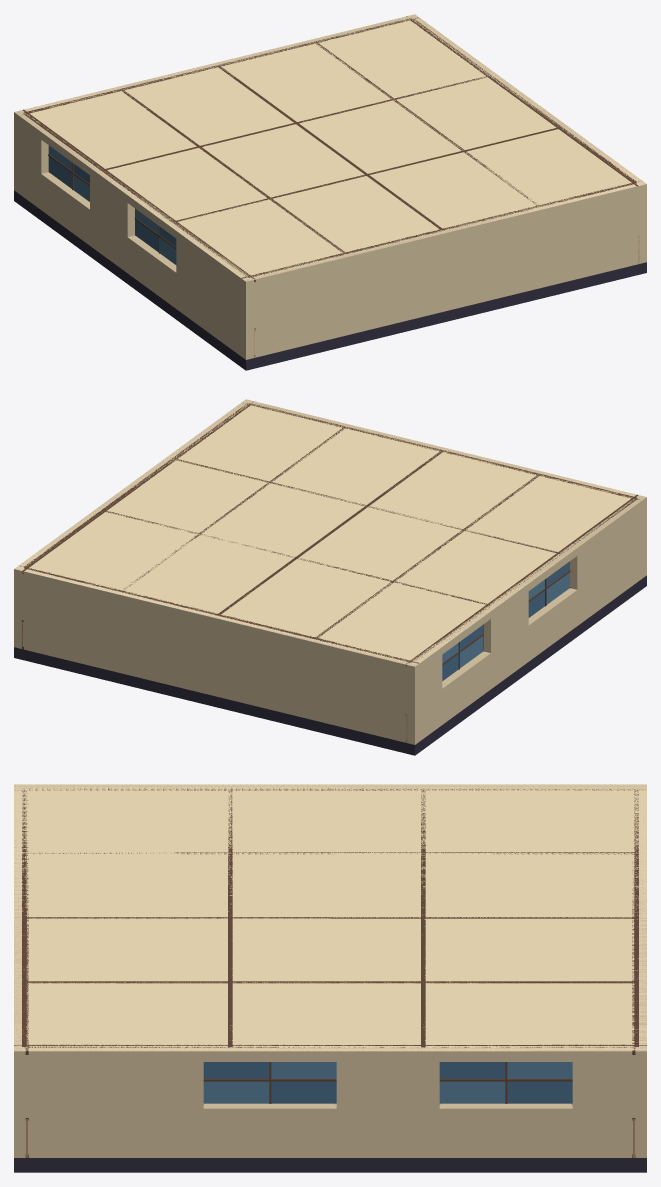
File: scene-debate-meshy.glb
3 renders of one model, top to bottom at view 1: azimuth 30°, elevation 25°; view 2: azimuth 150°, elevation 25°; view 3: azimuth 270°, elevation 25°, orthographic. The views are drawn at different scales.
Parts seen in each view (by area): view 1: SM_Ceiling_Details, SM_Wall_front, SM_Wall_left, SM_Finish_Details, SM_Wall_right, SM_Wall_back; view 2: SM_Ceiling_Details, SM_Wall_back, SM_Wall_left, SM_Finish_Details, SM_Wall_right, SM_Wall_front; view 3: SM_Ceiling_Details, SM_Wall_right, SM_Finish_Details, SM_Wall_left, SM_Wall_front, SM_Wall_back.
Boxes of the visible parts, box(x1,y1,x2,y2) form: SM_Ceiling_Details: box(22, 14, 646, 280); SM_Wall_front: box(241, 180, 641, 359); SM_Wall_left: box(14, 109, 255, 359); SM_Finish_Details: box(14, 190, 646, 370); SM_Wall_right: box(406, 15, 646, 263); SM_Wall_back: box(21, 14, 418, 114); SM_Ceiling_Details: box(14, 400, 639, 665); SM_Wall_back: box(14, 566, 419, 744); SM_Wall_left: box(405, 494, 646, 744); SM_Finish_Details: box(14, 575, 646, 755); SM_Wall_right: box(14, 401, 253, 649); SM_Wall_front: box(242, 399, 639, 499); SM_Ceiling_Details: box(14, 784, 646, 1051); SM_Wall_right: box(14, 1044, 646, 1157); SM_Finish_Details: box(14, 1158, 646, 1172); SM_Wall_left: box(14, 784, 646, 790); SM_Wall_front: box(14, 791, 28, 1157); SM_Wall_back: box(632, 799, 646, 1157).
Bounding box in the file's own units: 1.9 × 0.4026 × 1.9.
